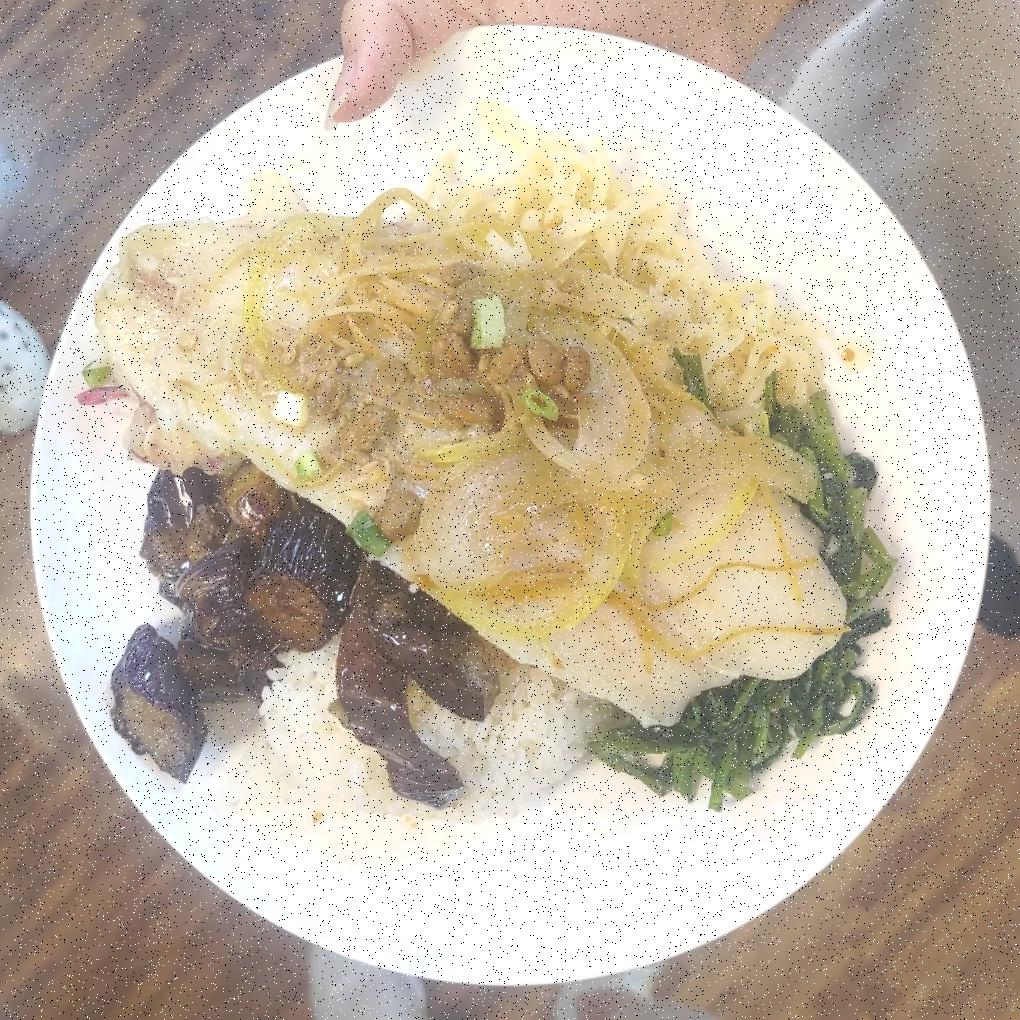plate: (15, 28, 984, 992)
side dish: (377, 124, 835, 420), (112, 473, 489, 810), (588, 390, 890, 801)
steamed fish fillet: (102, 208, 873, 734)
white rice: (252, 558, 623, 826)
